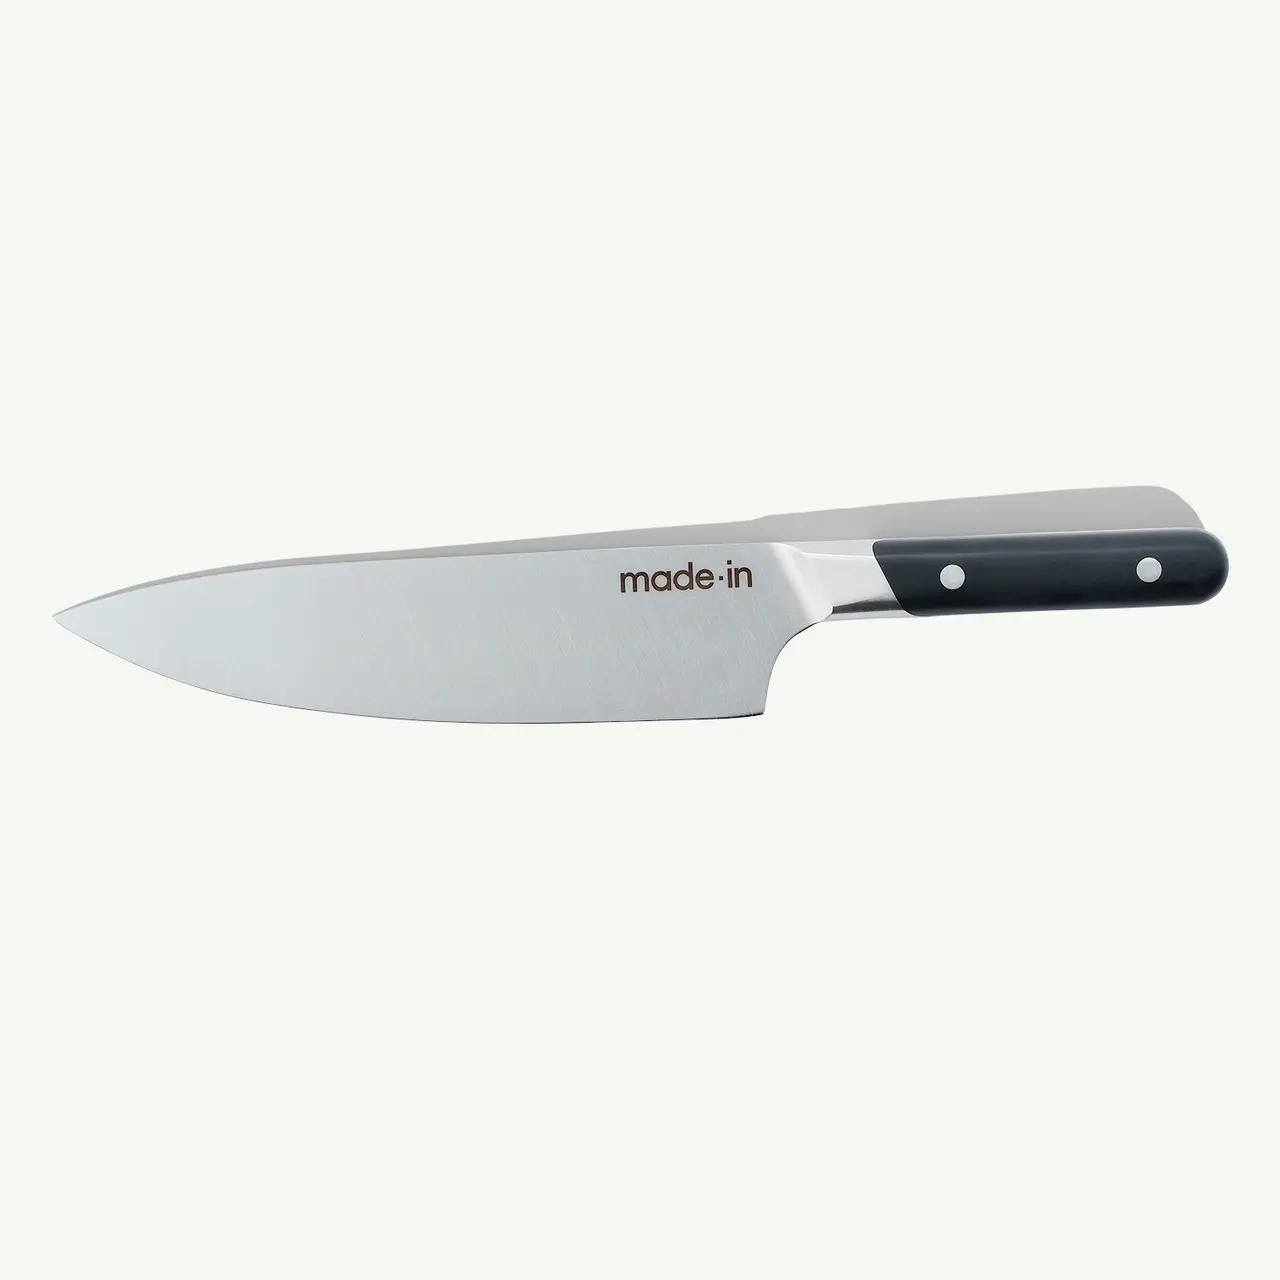knife: (56, 532, 1230, 726)
